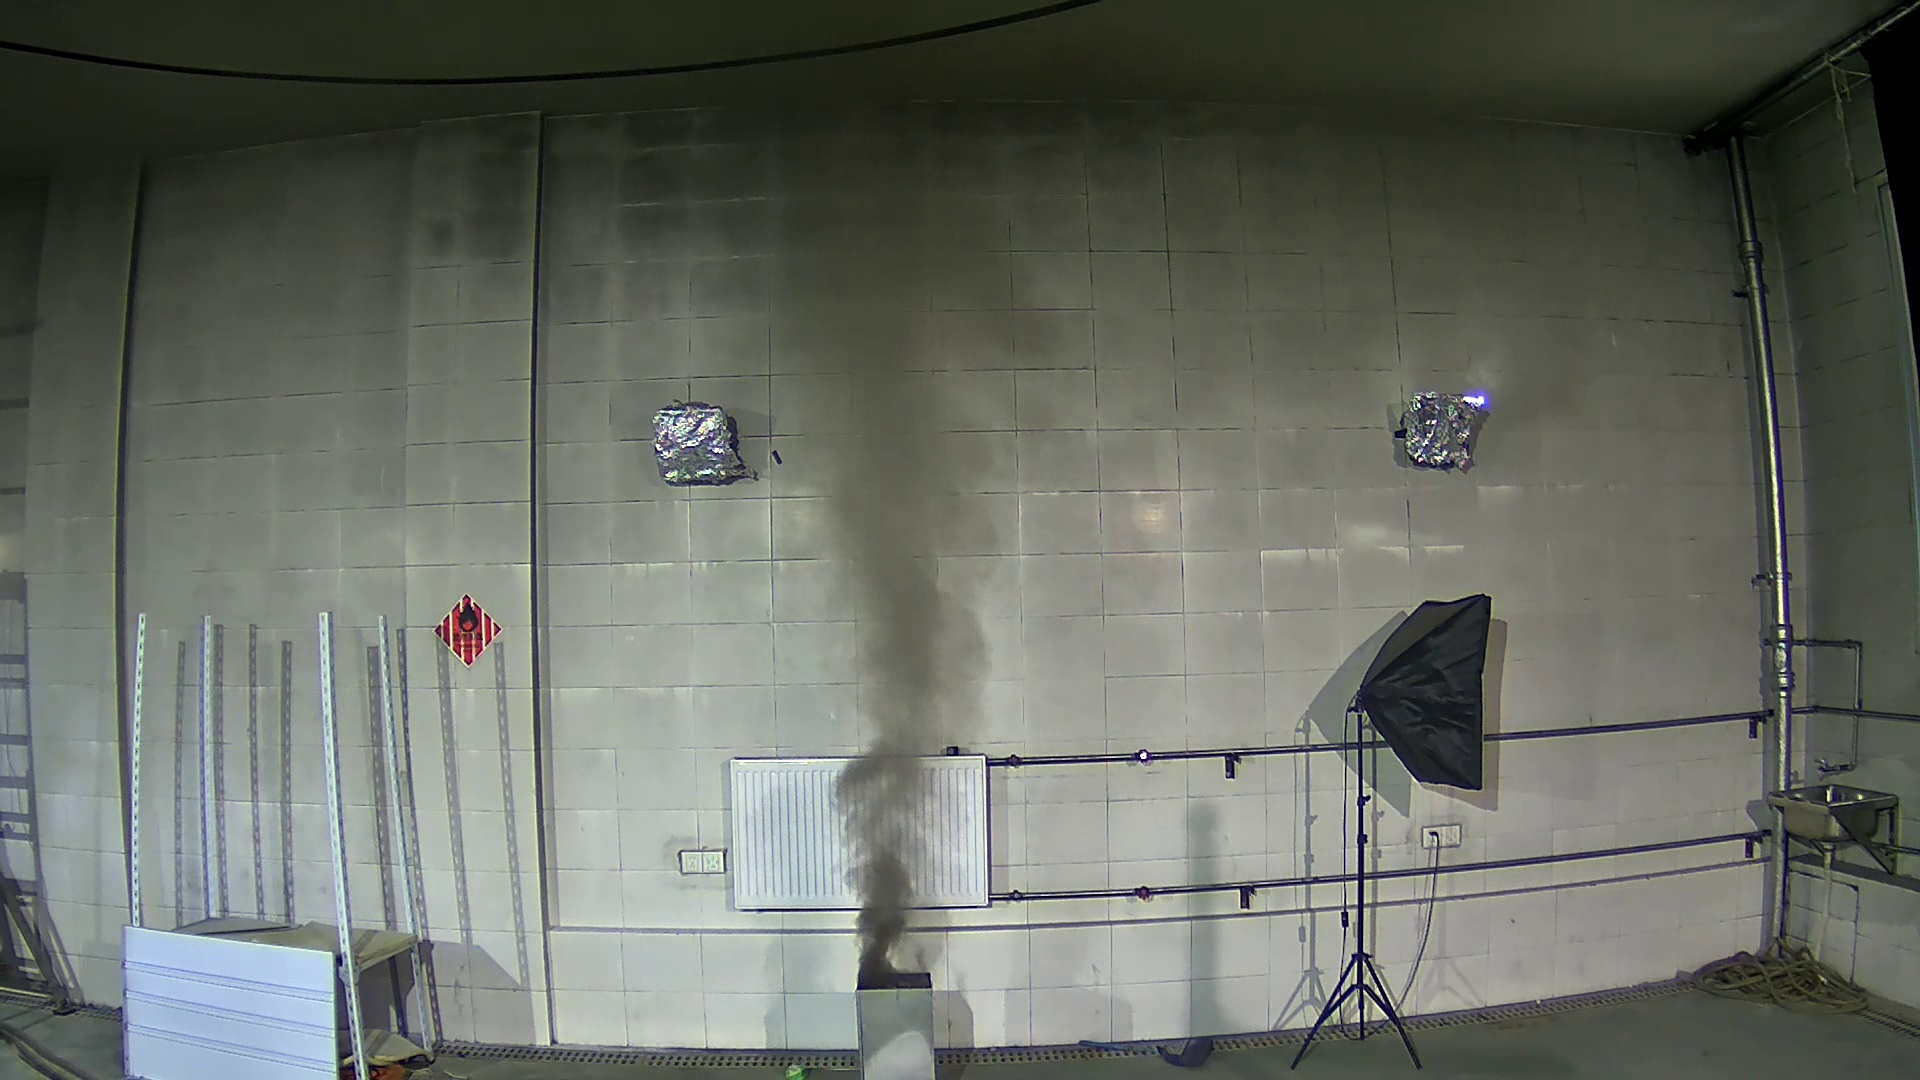smoke: (775, 124, 990, 968)
